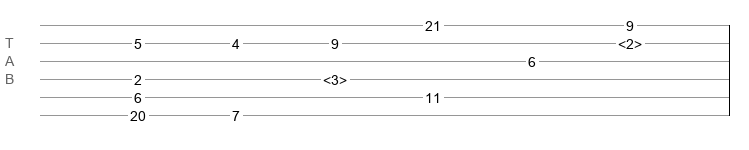11: (425, 90, 441, 100)
2: (134, 72, 142, 82)
20: (130, 108, 146, 118)
21: (425, 18, 441, 28)
4: (232, 36, 240, 46)
5: (134, 36, 142, 46)
6: (134, 90, 142, 100), (528, 54, 536, 64)
7: (232, 108, 240, 118)
9: (331, 36, 339, 46), (626, 18, 634, 28)
harmonic: (323, 72, 347, 82), (618, 36, 642, 46)
